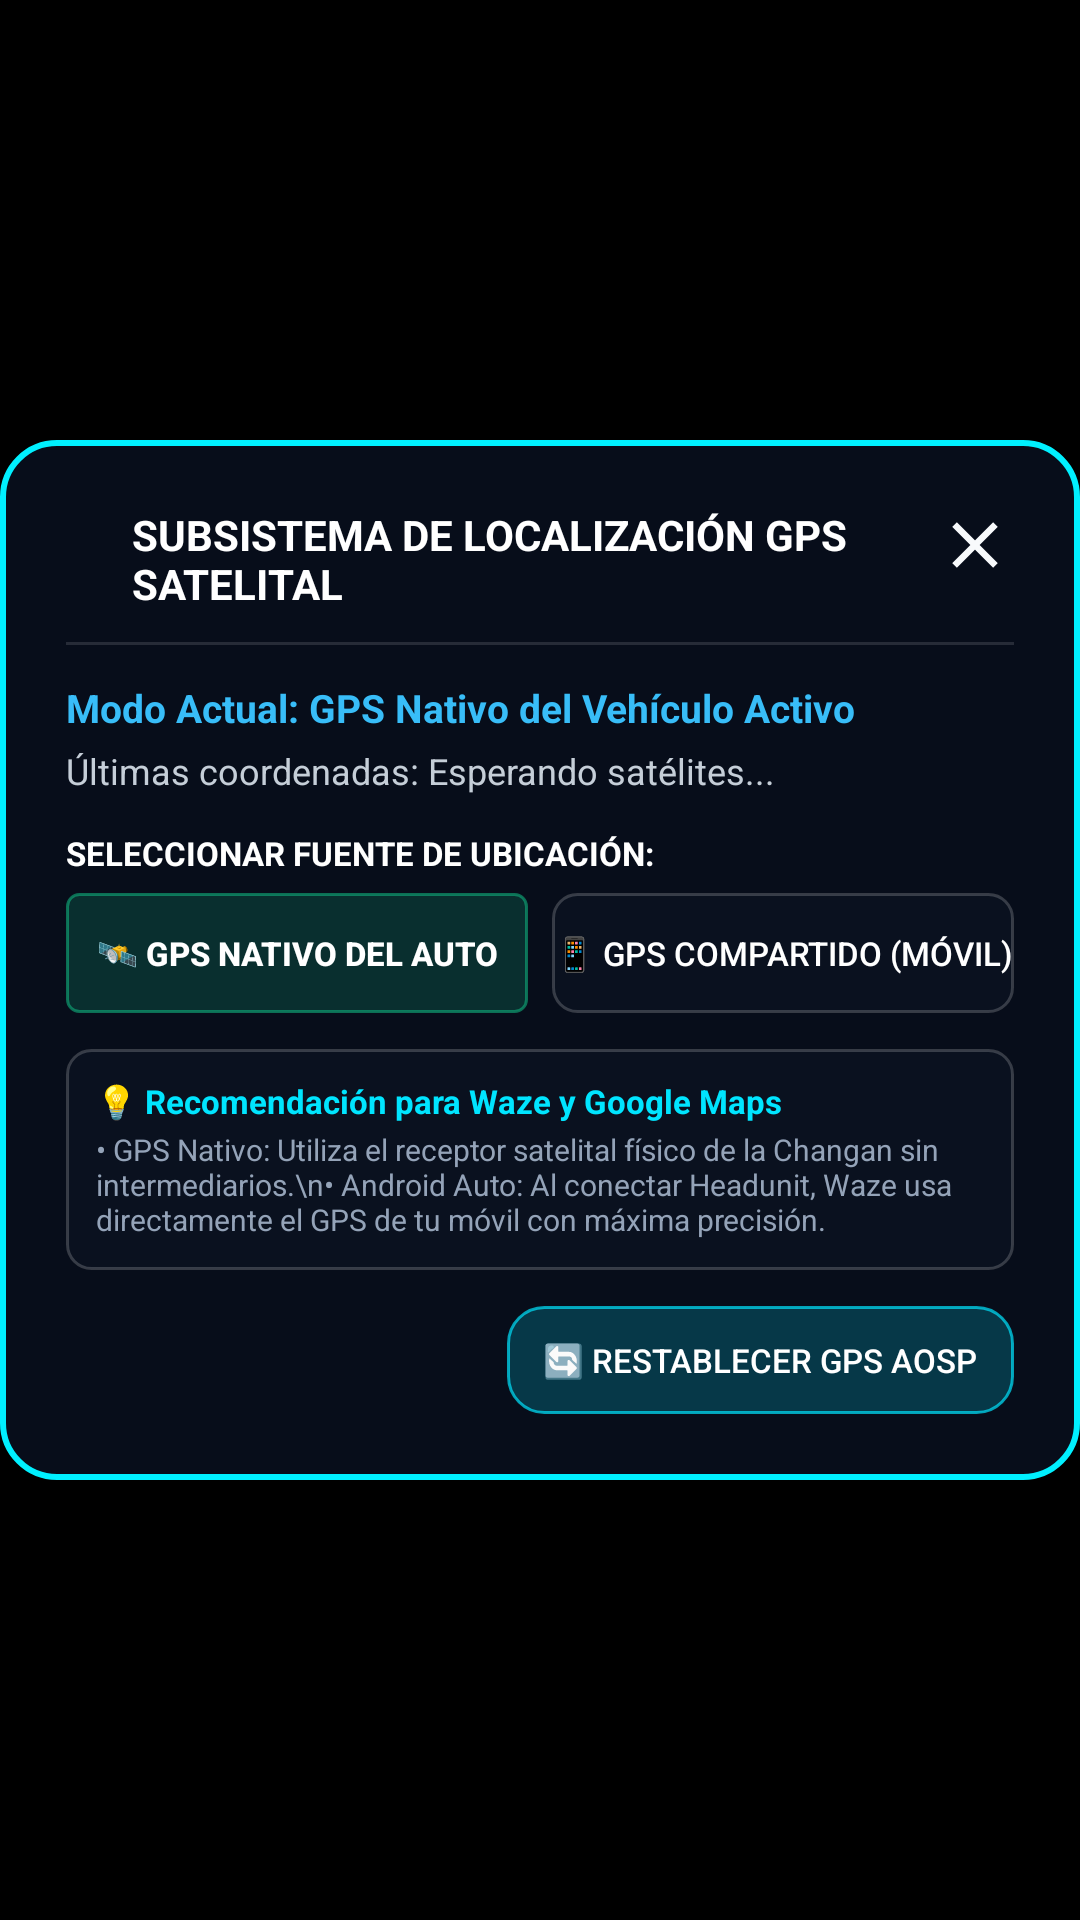

Icons on this 1080 x 1920 Android screen, each with the point to tap as (x=x, y=y):
close: (x=975, y=545)
